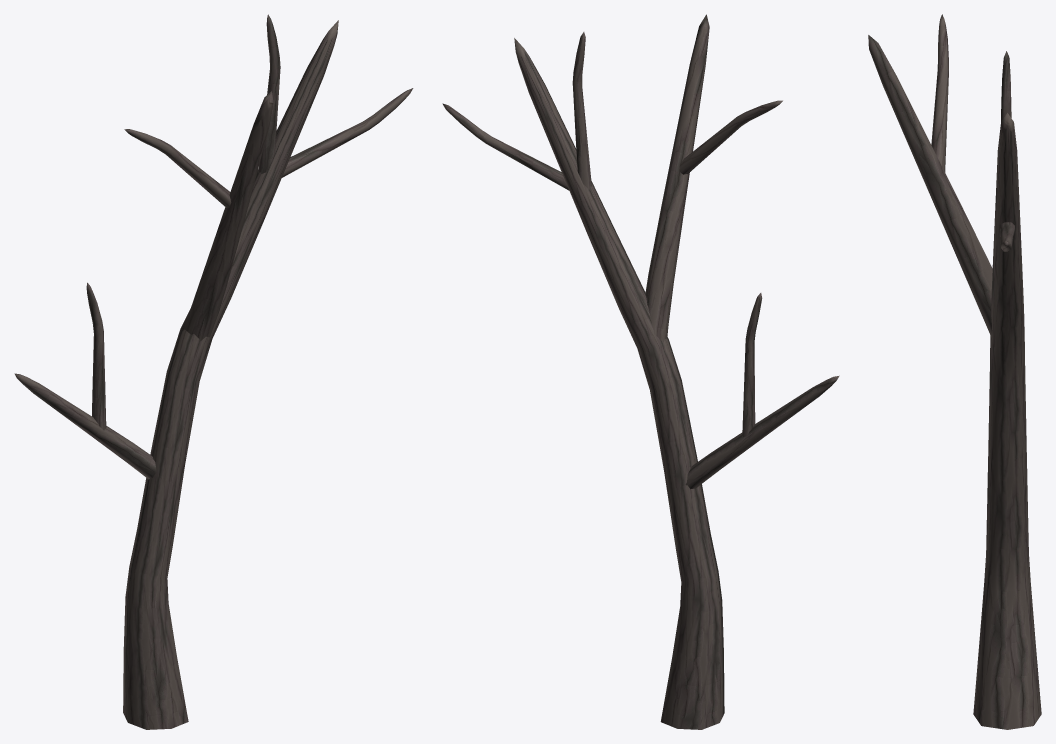
File: DeadTree_9.glb
3 views of the same model, side by side, from view 1: azimuth 30°, elevation 25°; view 2: azimuth 150°, elevation 25°; view 3: azimuth 270°, elevation 25° (orthographic). The views are drawn at different scales.
Size of the model in its own units: 2.06 by 3.3 by 0.7175.
Materials: 1 (1 with a texture image).
